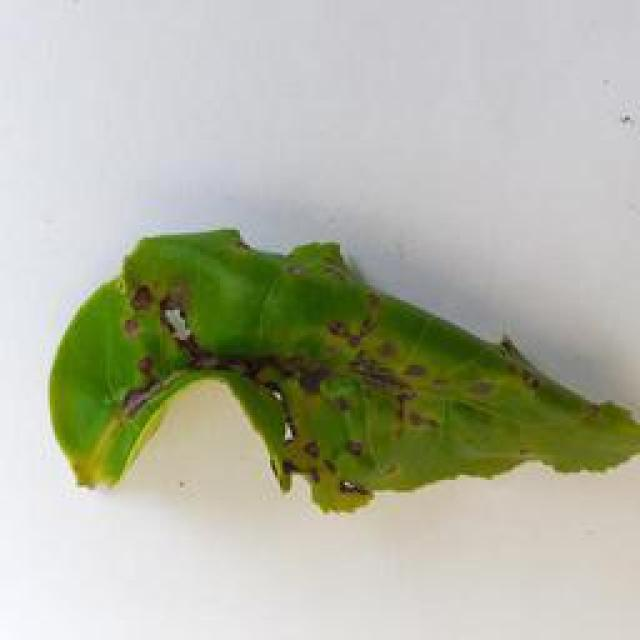Helopeltis: (45, 214, 640, 515)
